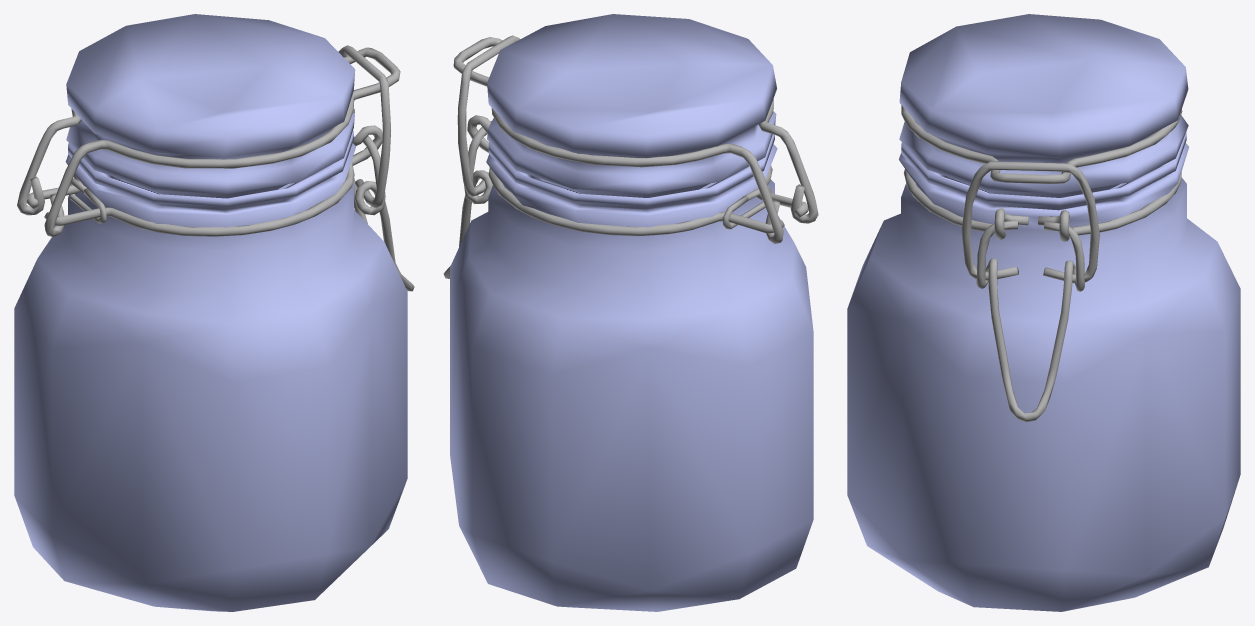
File: Heart.fbx
3 views of the same model, side by side, from view 1: azimuth 30°, elevation 25°; view 2: azimuth 150°, elevation 25°; view 3: azimuth 270°, elevation 25° (orthographic).
Visible parts, largest first — view 1: kitchen.preserving.jar.small, kitchen.preserving.jar.small.wire; view 2: kitchen.preserving.jar.small, kitchen.preserving.jar.small.wire; view 3: kitchen.preserving.jar.small, kitchen.preserving.jar.small.wire.
Part boxes in pixels (x1,y1,x2,y2): kitchen.preserving.jar.small: [14, 14, 407, 611]; kitchen.preserving.jar.small.wire: [17, 45, 414, 291]; kitchen.preserving.jar.small: [450, 14, 813, 611]; kitchen.preserving.jar.small.wire: [443, 35, 818, 278]; kitchen.preserving.jar.small: [847, 14, 1240, 611]; kitchen.preserving.jar.small.wire: [901, 105, 1182, 422].
Size of the model in its own units: 920 by 1145 by 850.
